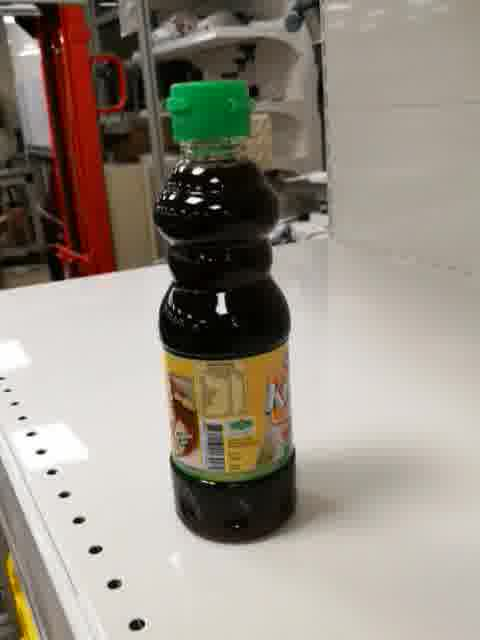cookingoil: (151, 76, 298, 547)
